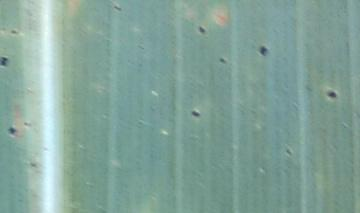tarspot: (326, 90, 337, 98), (260, 44, 267, 56), (8, 127, 17, 136), (112, 4, 122, 12), (191, 110, 200, 118), (1, 56, 8, 66), (198, 26, 205, 34), (218, 57, 226, 64), (286, 149, 292, 156), (11, 29, 18, 35)
